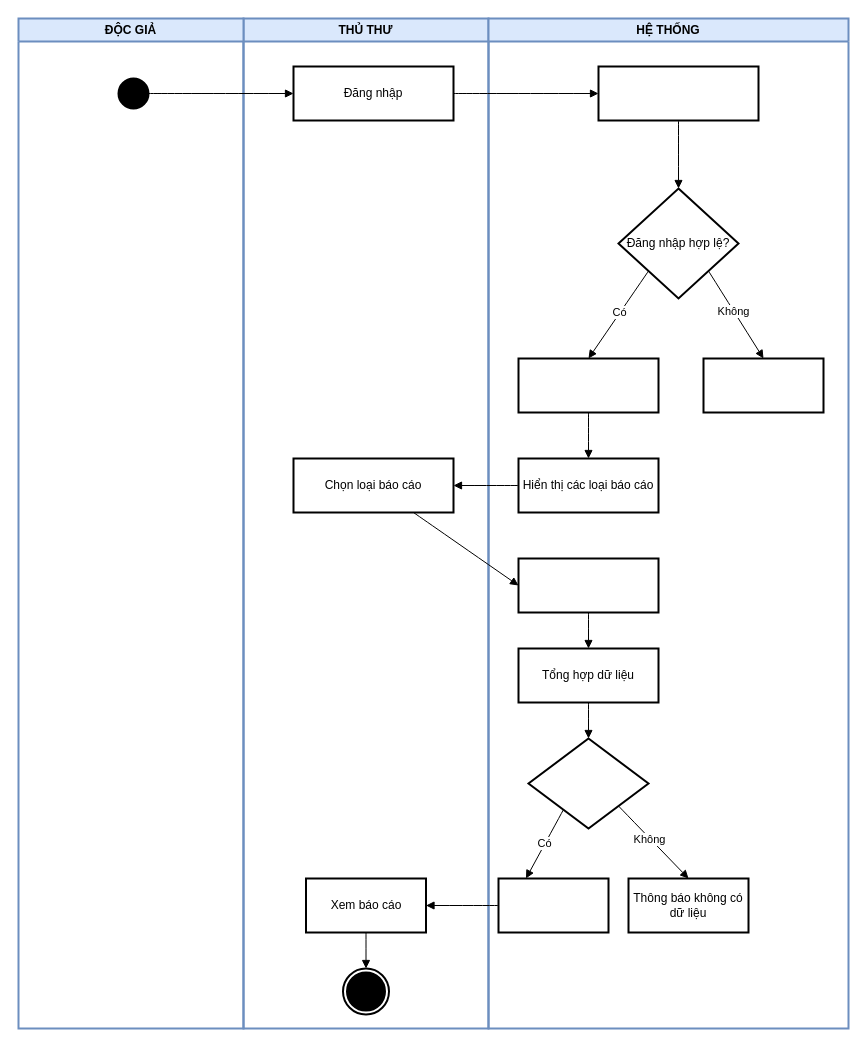
Image size: 866x1046. Some labels were removed from this diagram. The centre of each missing label's shape, as x and y in pixels:
Chọn báo cáo, thống kê: the point at 588,385
Có dữ liệu?: the point at 588,783
Kiểm tra đăng nhập: the point at 678,93
Lấy dữ liệu: the point at 588,585
Thông báo lỗi: the point at 763,385
Tạo báo cáo: the point at 553,905
